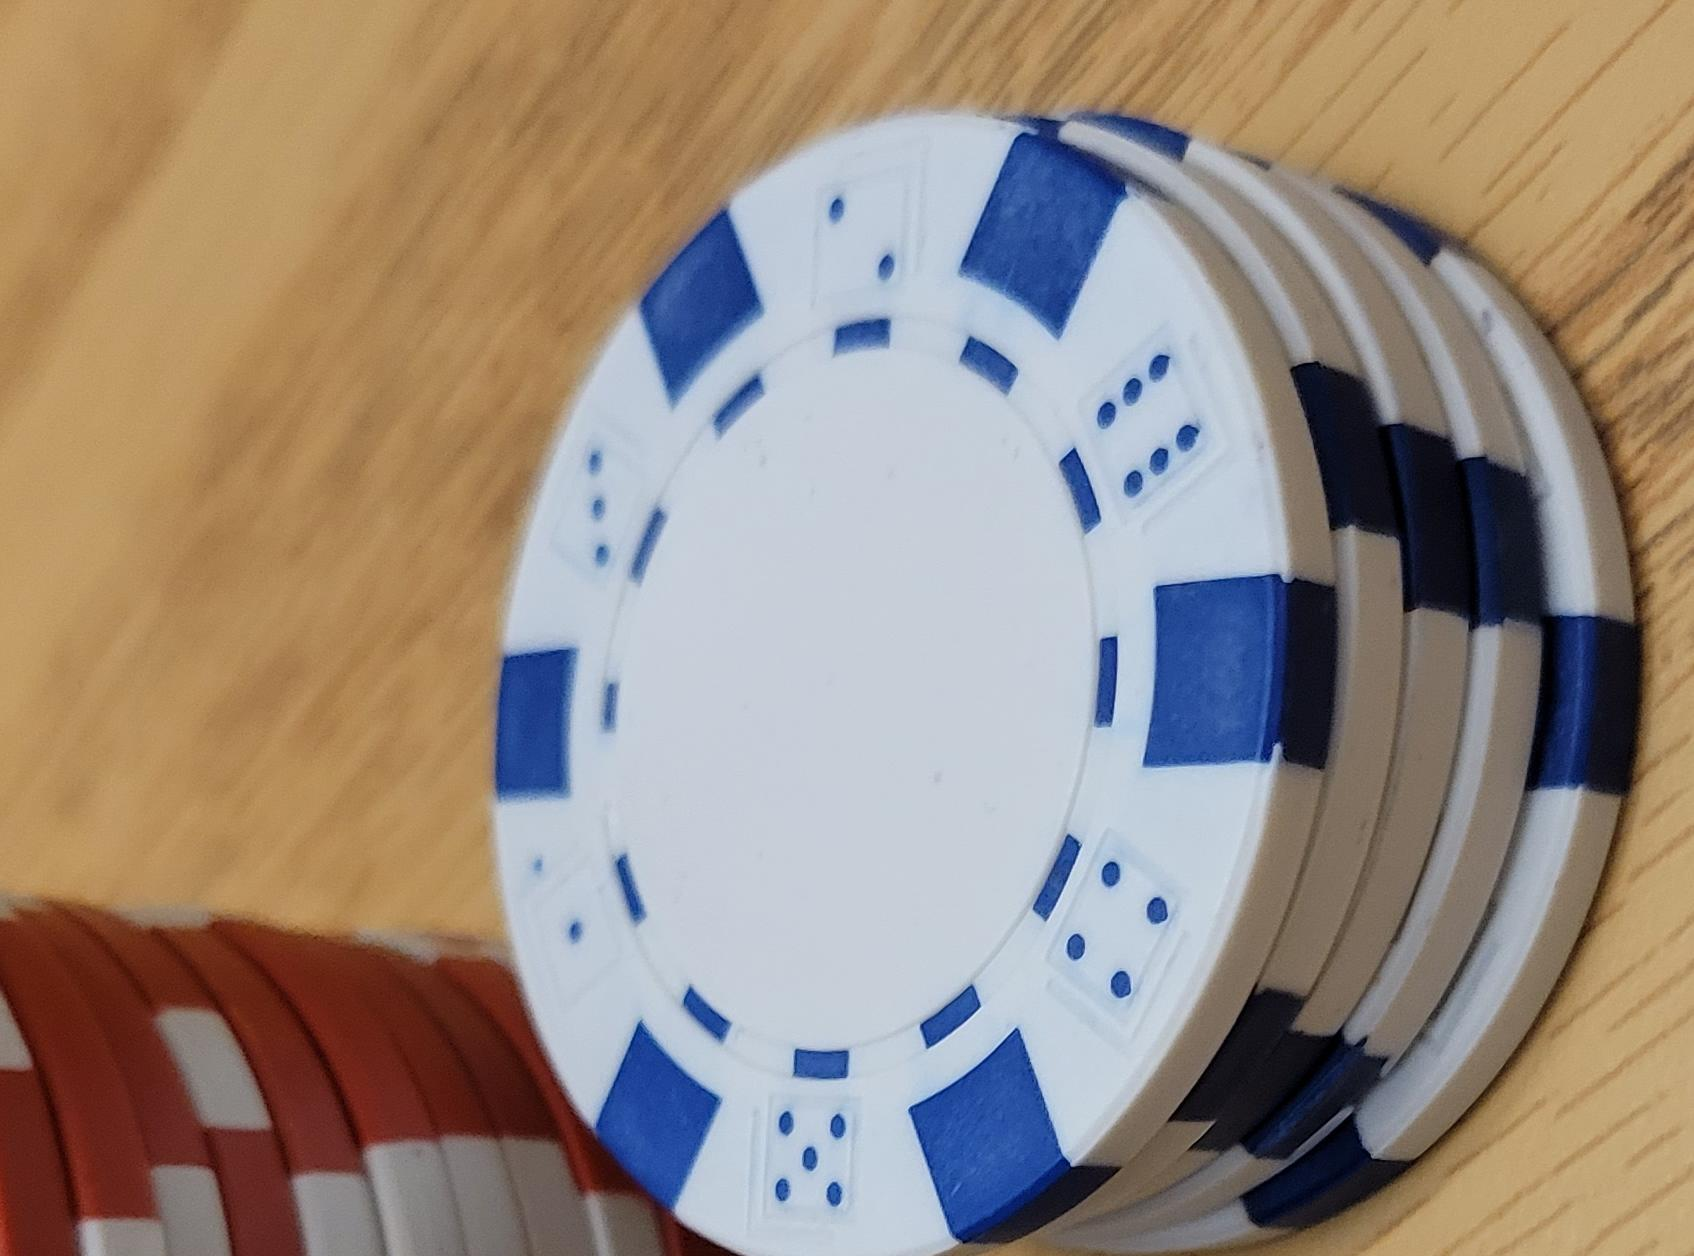Chip: (1, 59, 1005, 1256)
